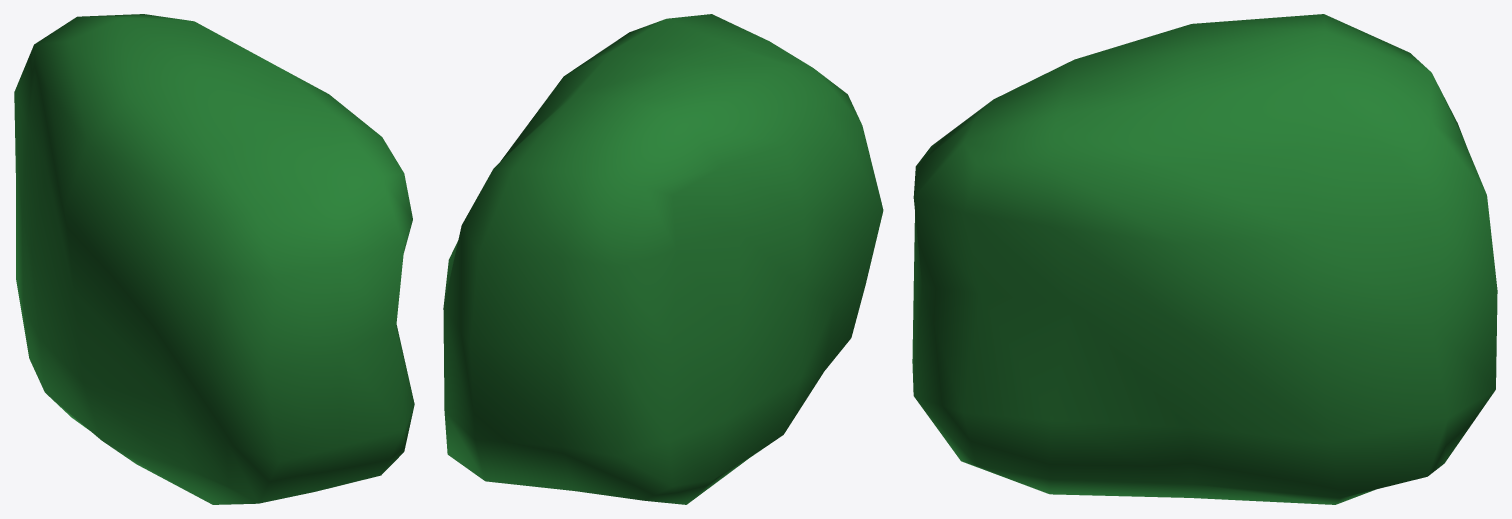
File: Arbusto4.fbx
3 renders of one model, left to right at view 1: azimuth 30°, elevation 25°; view 2: azimuth 150°, elevation 25°; view 3: azimuth 270°, elevation 25°, orthographic. The views are drawn at different scales.
Visible parts, largest first — view 1: Arbusto3; view 2: Arbusto3; view 3: Arbusto3.
Boxes of the visible parts, bbox=[...] form: Arbusto3: bbox=[14, 14, 414, 504]; Arbusto3: bbox=[443, 14, 883, 504]; Arbusto3: bbox=[912, 14, 1497, 504].
Size of the model in its own units: 1059 by 1320 by 1670.
